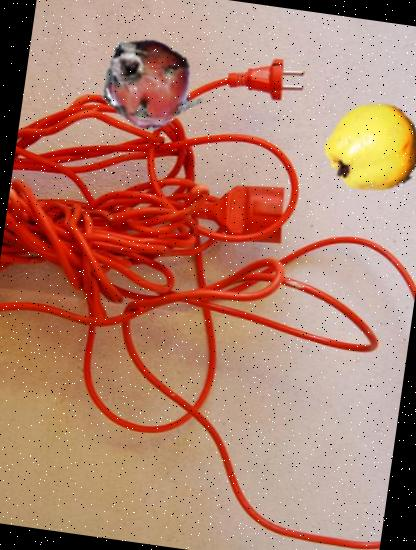Pitahaya: (90, 27, 202, 138)
Quince: (321, 95, 416, 203)
